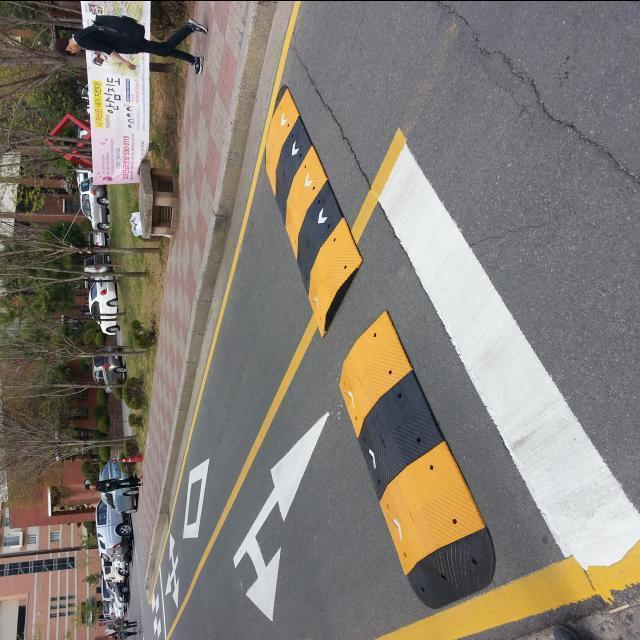speedbreaker: (239, 85, 527, 584)
